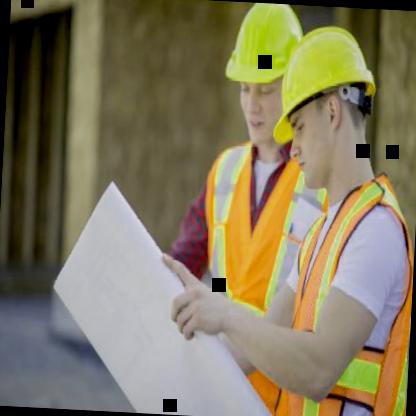helmet: (262, 3, 376, 187), (222, 0, 322, 166)
